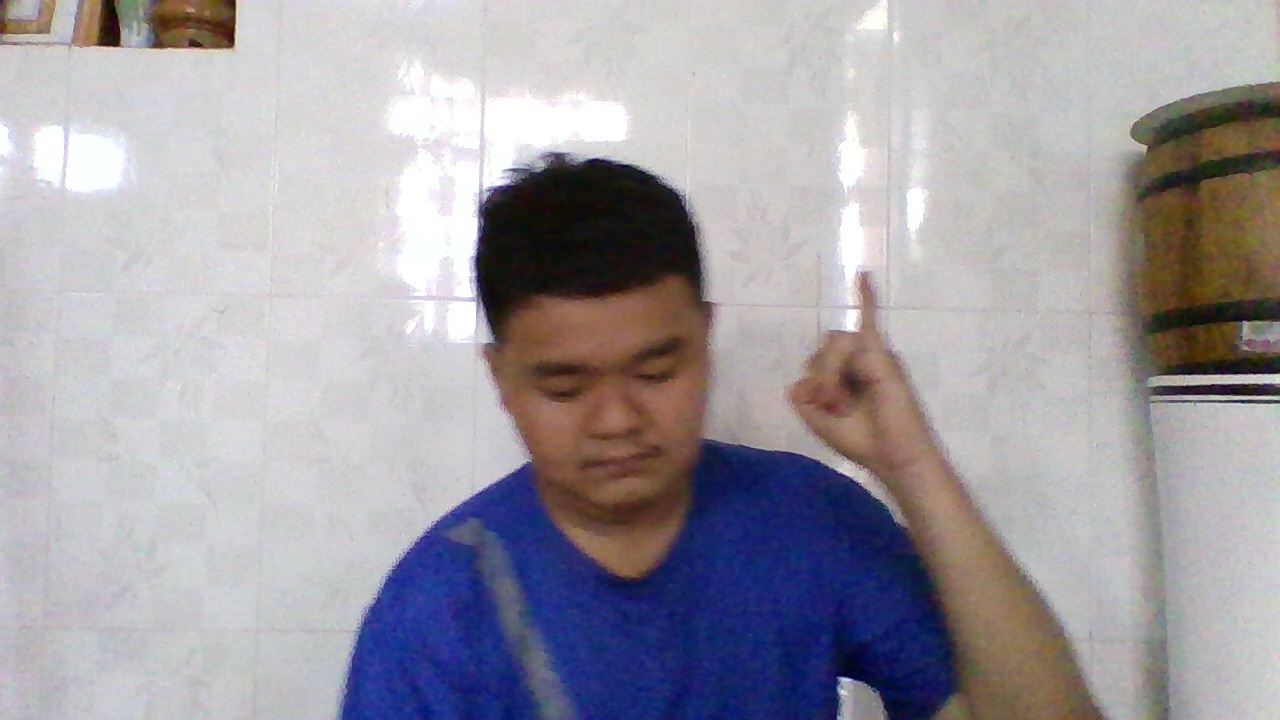I: (788, 259, 916, 476)
